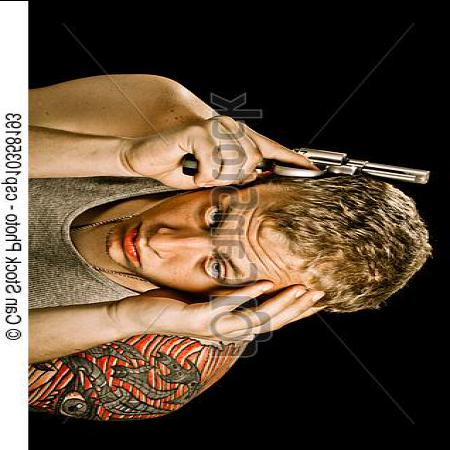Pistol: (180, 145, 434, 191)
